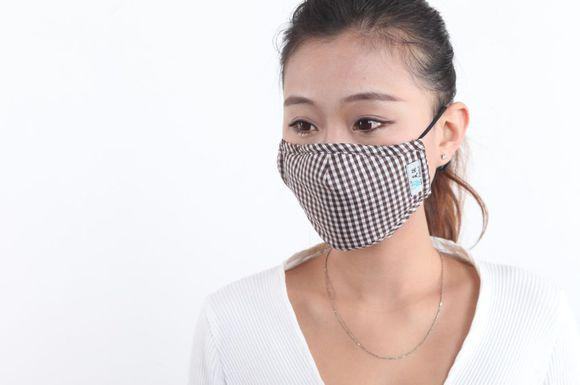OK: (280, 87, 431, 238)
